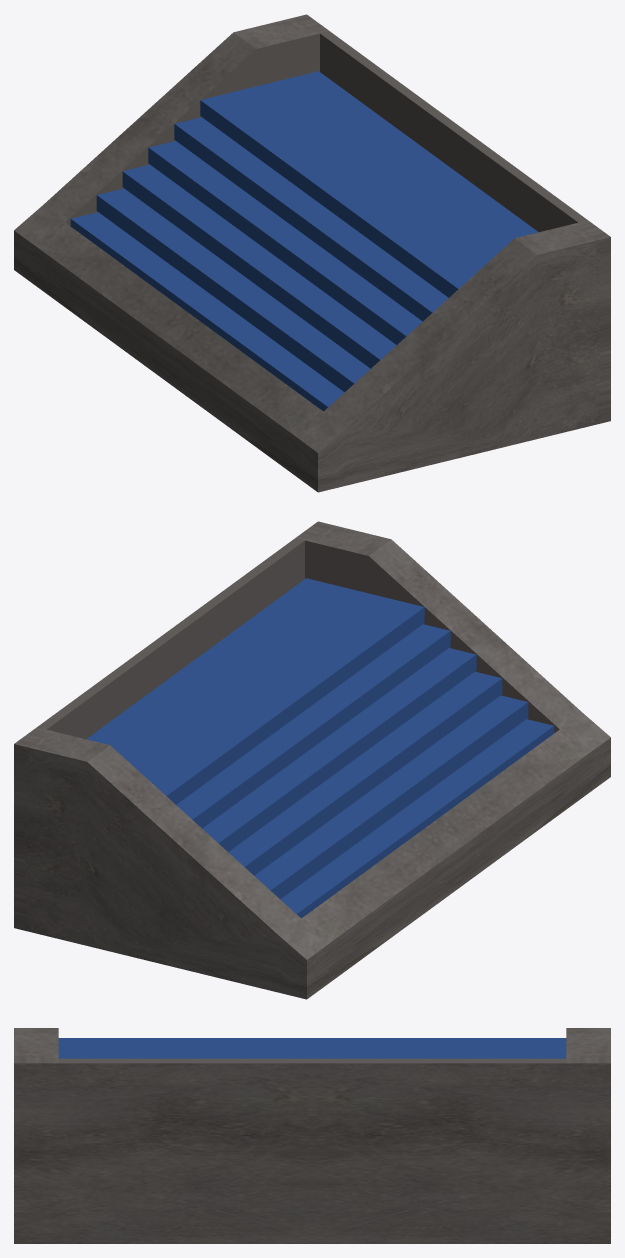
Rendered from gradas.obj.
3 views of the same model, one above another, from view 1: azimuth 30°, elevation 25°; view 2: azimuth 150°, elevation 25°; view 3: azimuth 270°, elevation 25° (orthographic).
Visible parts, largest first — view 1: StadiumSits1_Cube.001; view 2: StadiumSits1_Cube.001; view 3: StadiumSits1_Cube.001.
Boxes of the visible parts, box(x1,y1,x2,y2) form: StadiumSits1_Cube.001: box(14, 14, 610, 492); StadiumSits1_Cube.001: box(14, 521, 610, 999); StadiumSits1_Cube.001: box(14, 1028, 610, 1243).
Bounding box in the file's own units: 7.27 × 4.37 × 13.08.
2 materials, 2 textured.
